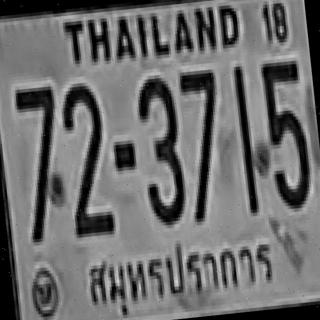N01: (231, 63, 259, 213)
N02: (58, 80, 112, 233)
N03: (133, 74, 186, 224)
N05: (258, 57, 311, 207)
N07: (12, 83, 66, 240), (177, 68, 228, 220), (12, 83, 61, 191)
P57: (80, 222, 284, 320)
